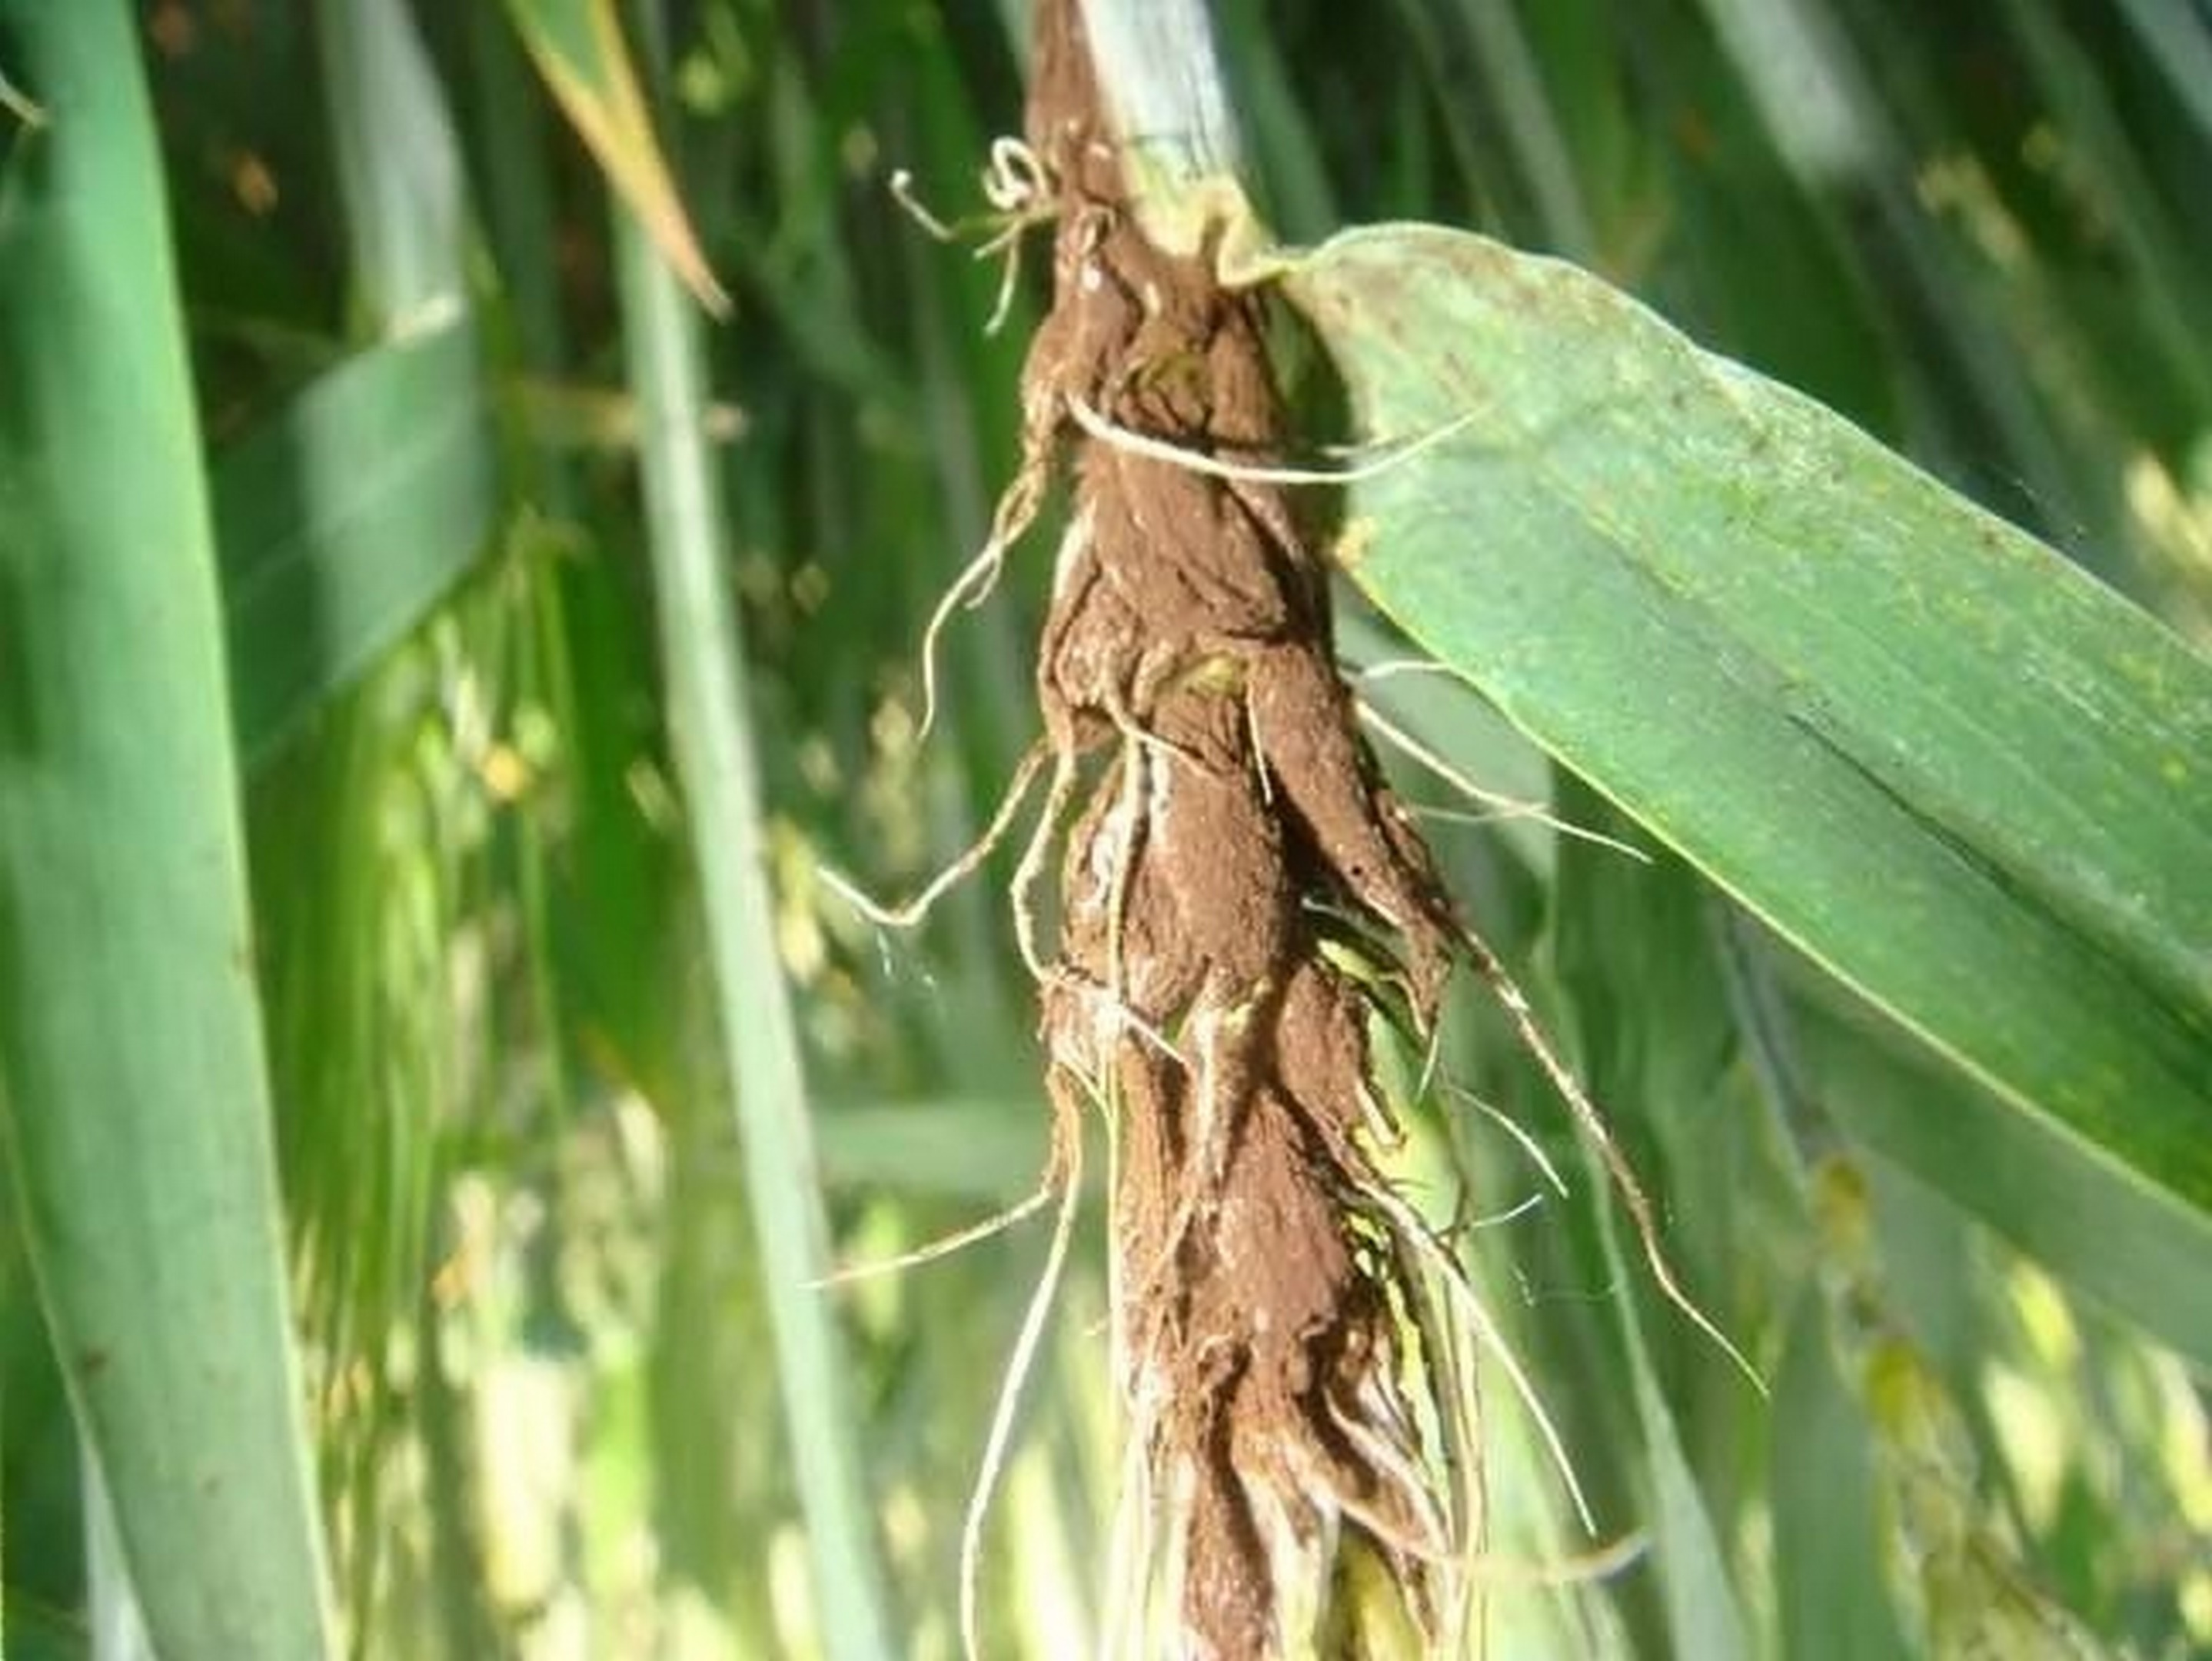Wheat Loose Smut: (963, 176, 1462, 1607)
